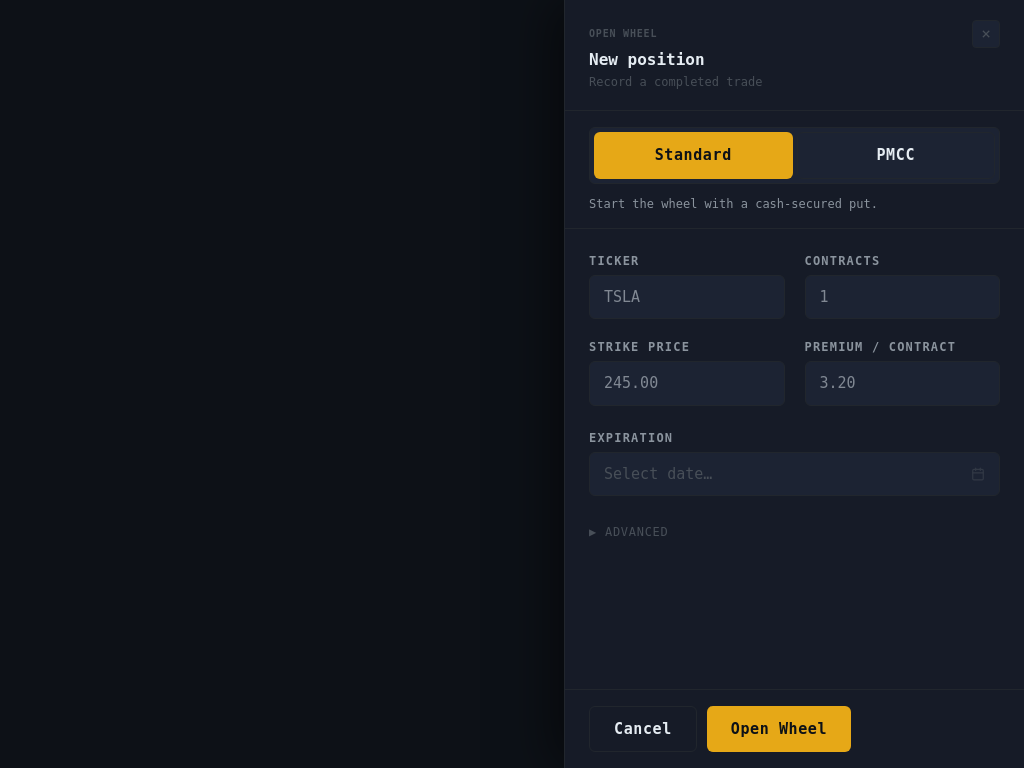
Test: NewPositionSheet — switching strategy › carries ticker and contracts from Standard into PMCC
In the field with id "ticker": (687, 297) top-left (589, 274), bottom-right (784, 319), type "XYZ"
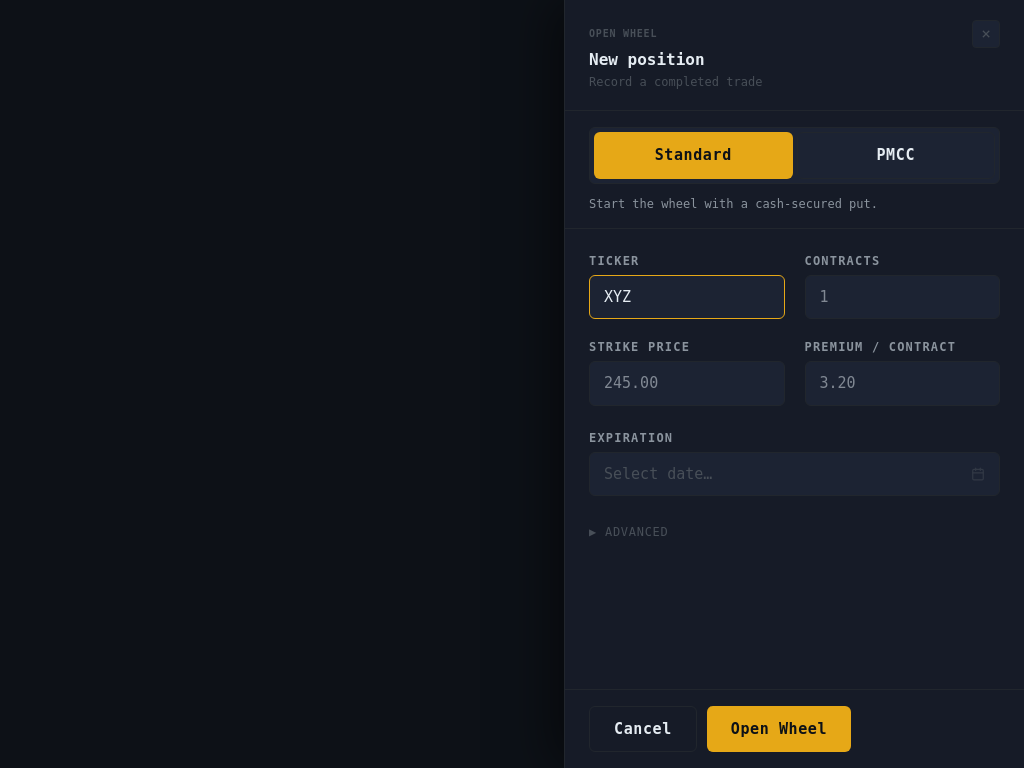
In the field with id "contracts": (902, 297) top-left (804, 274), bottom-right (1000, 319), type "2"
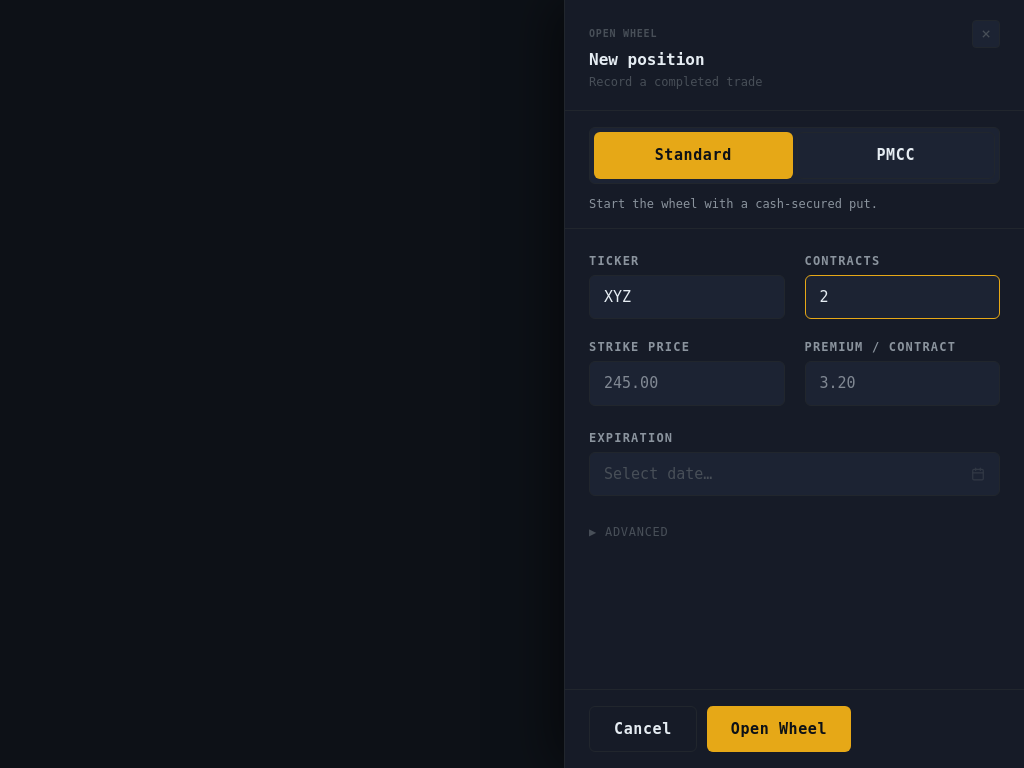
Click the button "PMCC": (896, 155) top-left (796, 132), bottom-right (995, 178)
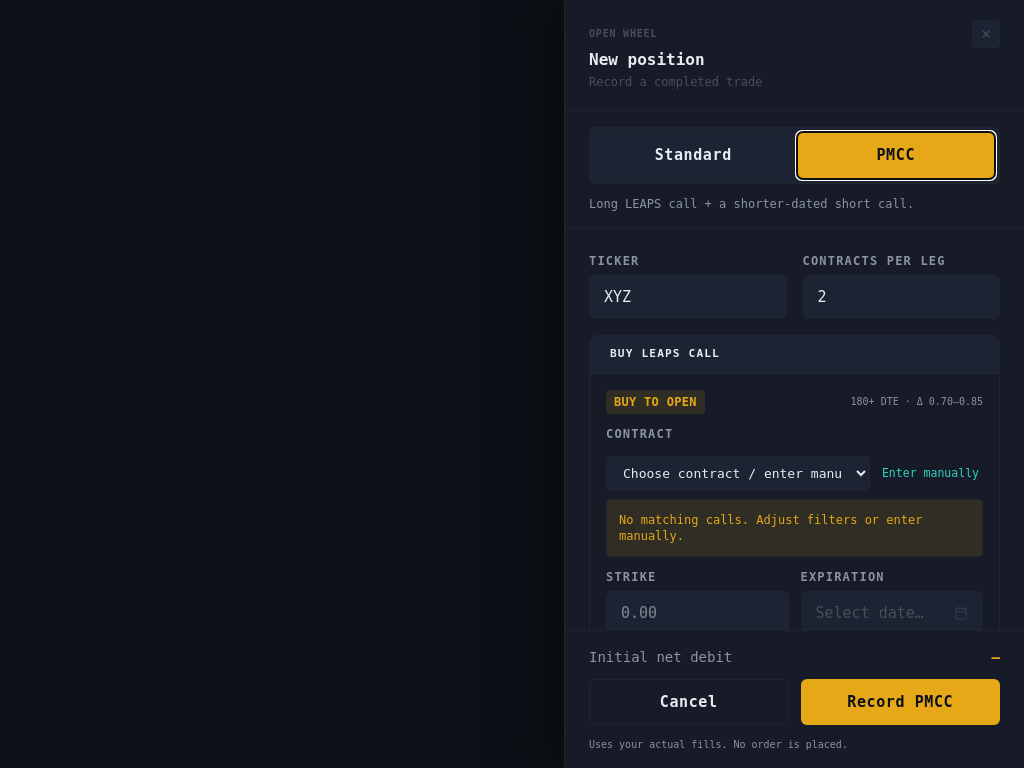
Check: the field labelled "Ticker" holds "XYZ", box top-left (589, 274), bottom-right (786, 319)
Check: the field labelled "Contracts per leg" holds "2", box top-left (802, 274), bottom-right (1000, 319)
